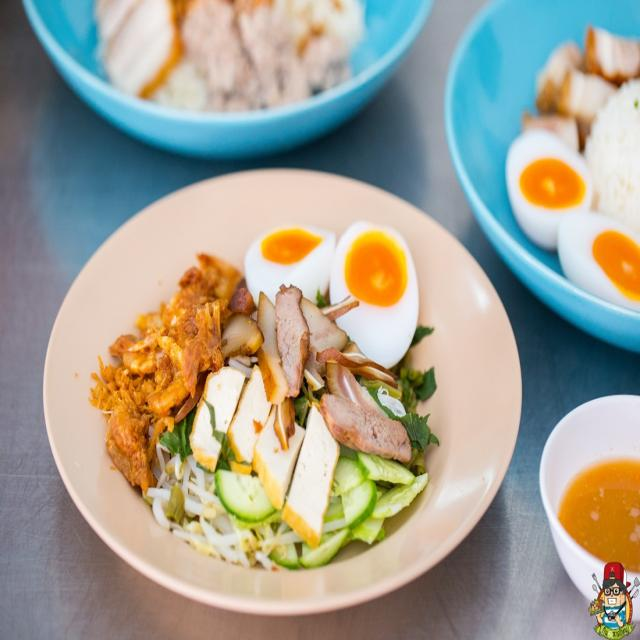Carbohydrate: (198, 306, 379, 500)
Taokua: (45, 187, 512, 604), (98, 224, 415, 539)
Vegetable: (152, 365, 441, 573)
